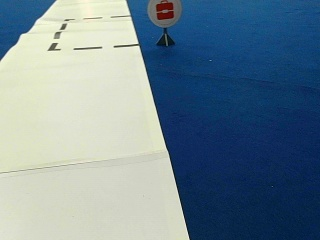company: (148, 0, 182, 26)
